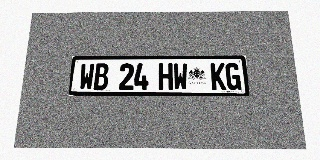2: (119, 63, 134, 90)
4: (134, 63, 148, 90)
B: (93, 63, 109, 90)
G: (225, 63, 241, 90)
H: (159, 63, 173, 90)
K: (210, 63, 226, 90)
W: (79, 63, 95, 90), (173, 63, 188, 90)
